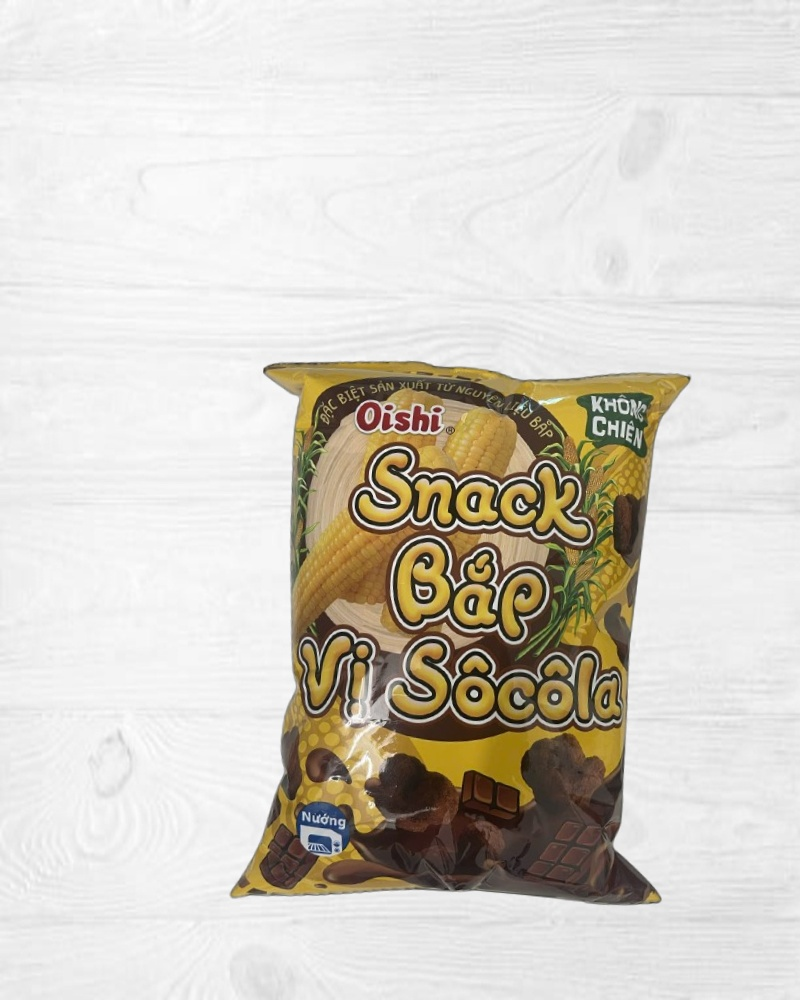Snack socola: (221, 343, 707, 924)
